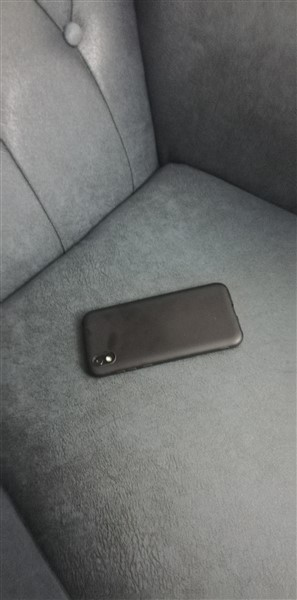telefon: (79, 279, 250, 382)
